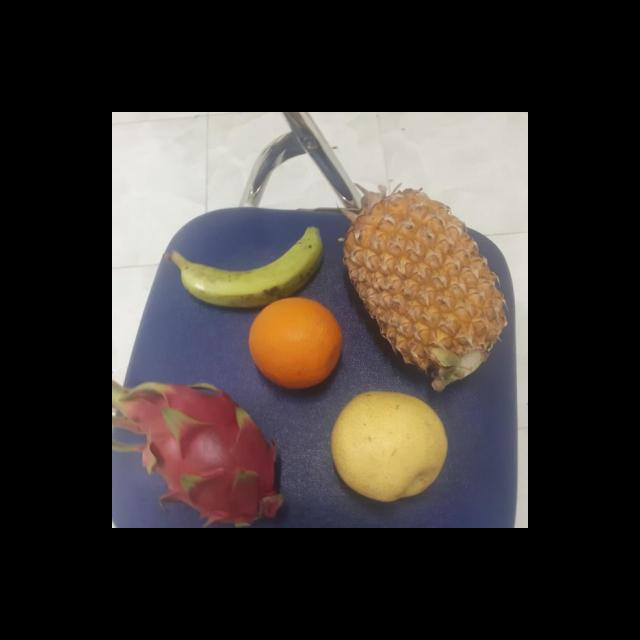banana: (176, 214, 332, 310)
orange: (248, 295, 348, 391)
pear: (328, 383, 452, 502)
pineapple: (345, 200, 509, 386)
pitaya: (131, 383, 292, 528)
